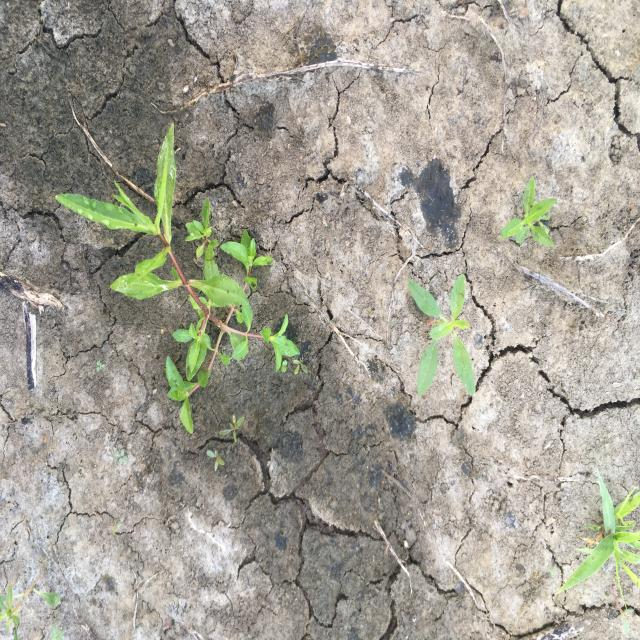Eclipta: (54, 121, 302, 437), (499, 174, 558, 249)
Waterhemp: (406, 274, 478, 396)
